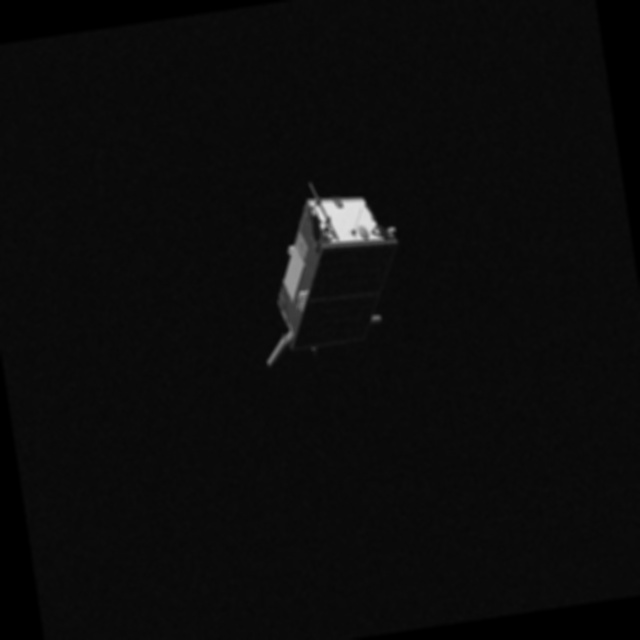satellite: (238, 170, 421, 381)
